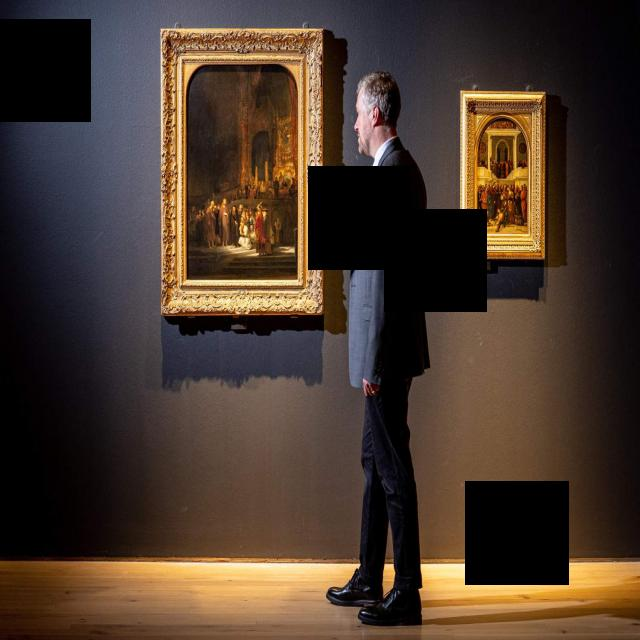Tablo: (184, 62, 301, 280), (474, 113, 532, 236)
